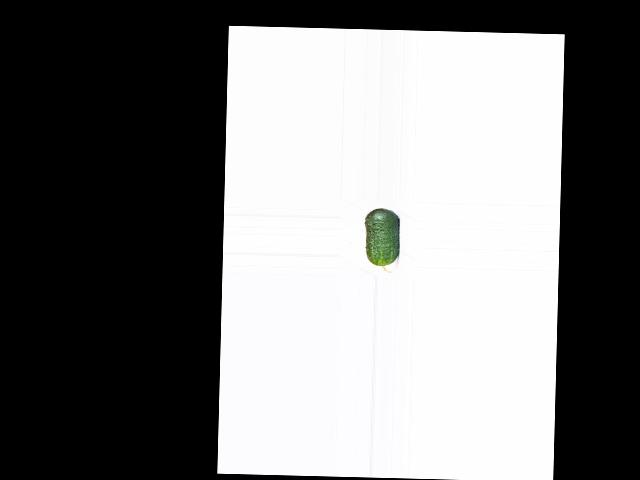cucumber: (364, 208, 399, 273)
